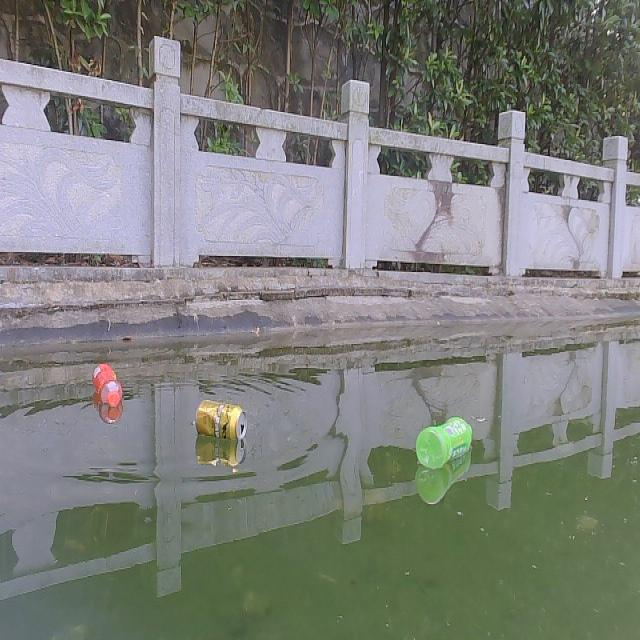bottle: (414, 415, 473, 468), (92, 361, 121, 407)
can: (194, 399, 245, 437)
